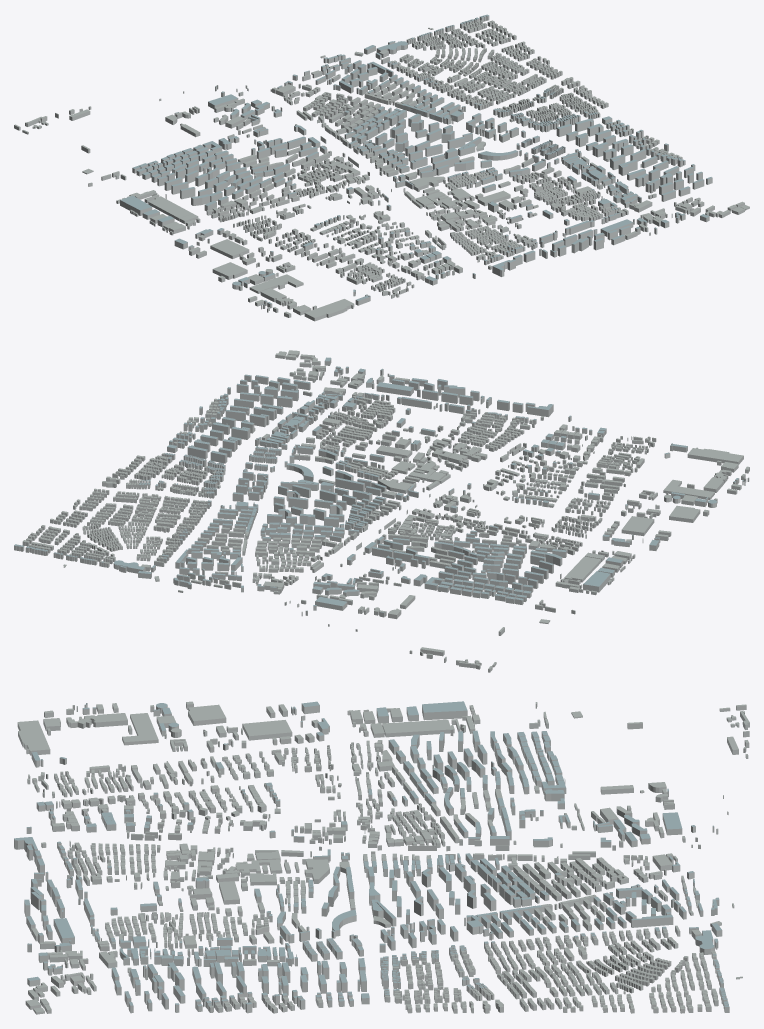
The model's file is far.glb.
The picture shows the model from 3 angles, top to bottom: view 1: azimuth 30°, elevation 25°; view 2: azimuth 150°, elevation 25°; view 3: azimuth 270°, elevation 25°; orthographic projection. The views are drawn at different scales.
Size of the model in its own units: 2112 by 37.6 by 2130.
